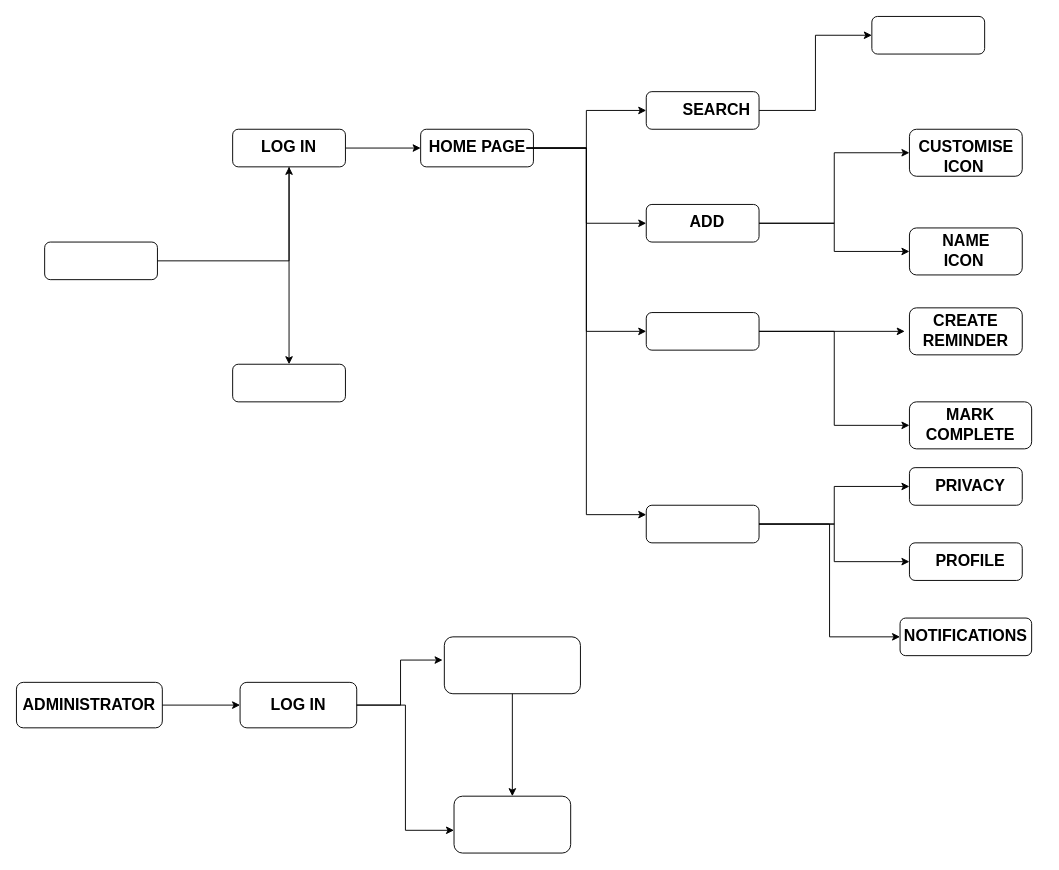
Image size: 1059x870. Some labels were removed from this diagram. The centre of each missing label's shape, as x and y in pixels:
ADD DESIGN: pixel 512 824
BY NAME: pixel 928 35
CATEGORY: pixel 702 331
SETTINGS: pixel 702 523
SIGN UP: pixel 288 382
UPDATE FUNCTIONALITY: pixel 511 665
USER: pixel 100 260
